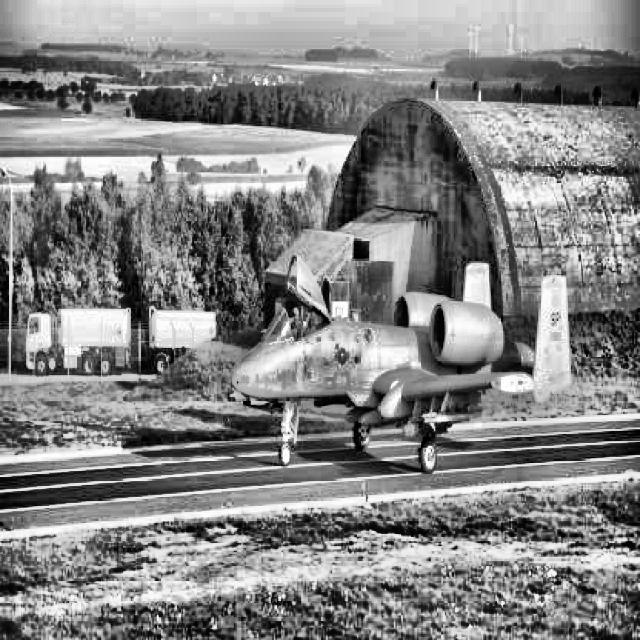A10: (227, 255, 571, 474)
